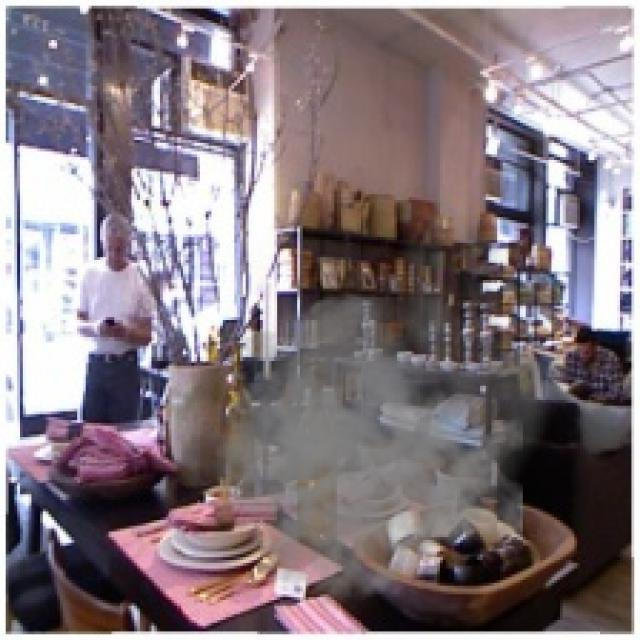smoke: (188, 183, 568, 608)
